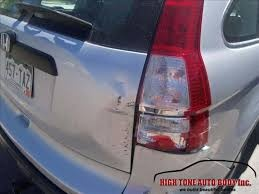Scratch: (111, 92, 134, 163)
